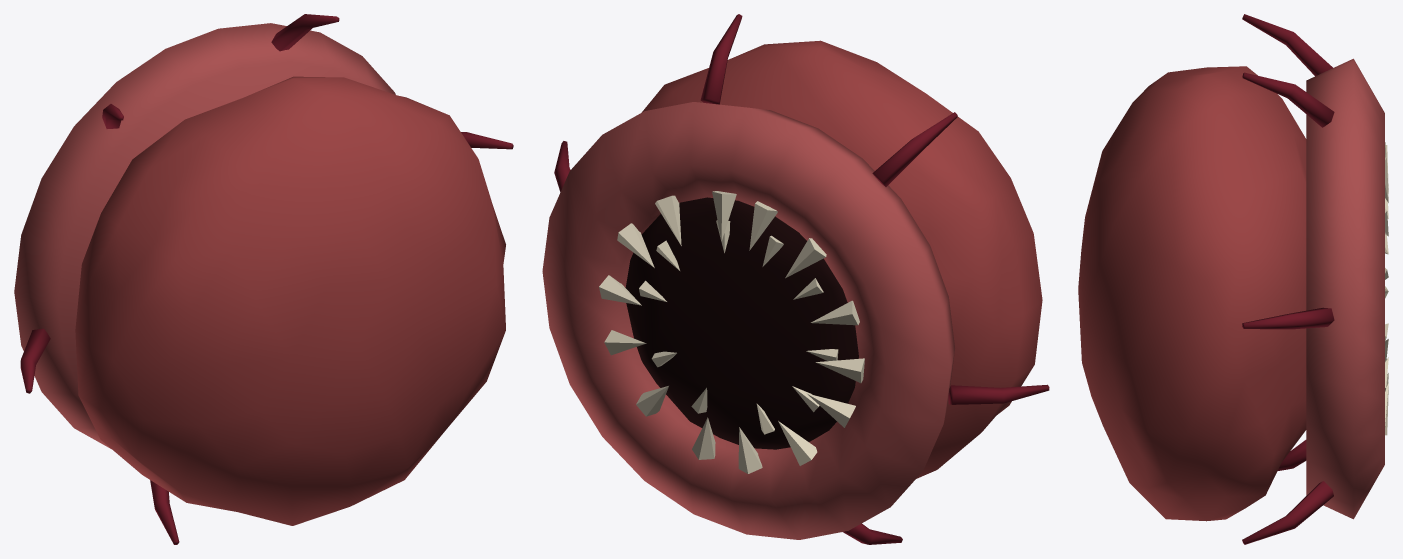
Rendered from wall_of_flesh_mouth.glb.
3 renders of one model, left to right at view 1: azimuth 30°, elevation 25°; view 2: azimuth 150°, elevation 25°; view 3: azimuth 270°, elevation 25°, orthographic.
Visible parts, largest first — view 1: maw_mouth; view 2: maw_mouth; view 3: maw_mouth.
Boxes of the visible parts, bbox=[...] form: maw_mouth: bbox=[14, 14, 513, 544]; maw_mouth: bbox=[542, 14, 1049, 544]; maw_mouth: bbox=[1078, 14, 1388, 544].
Bounding box in the file's own units: 5.27 × 5.05 × 2.96.
